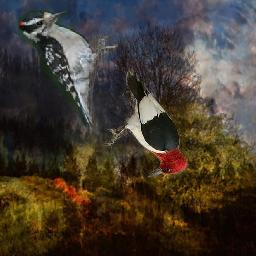Woodpecker: (18, 10, 118, 130), (106, 68, 189, 178)
